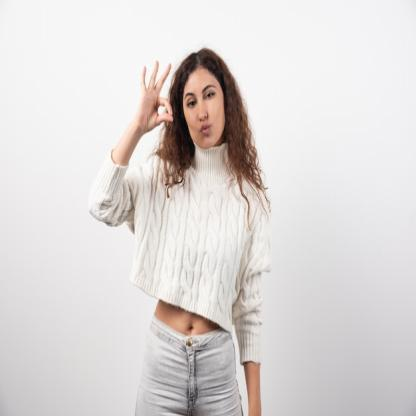ok: (136, 56, 174, 134)
